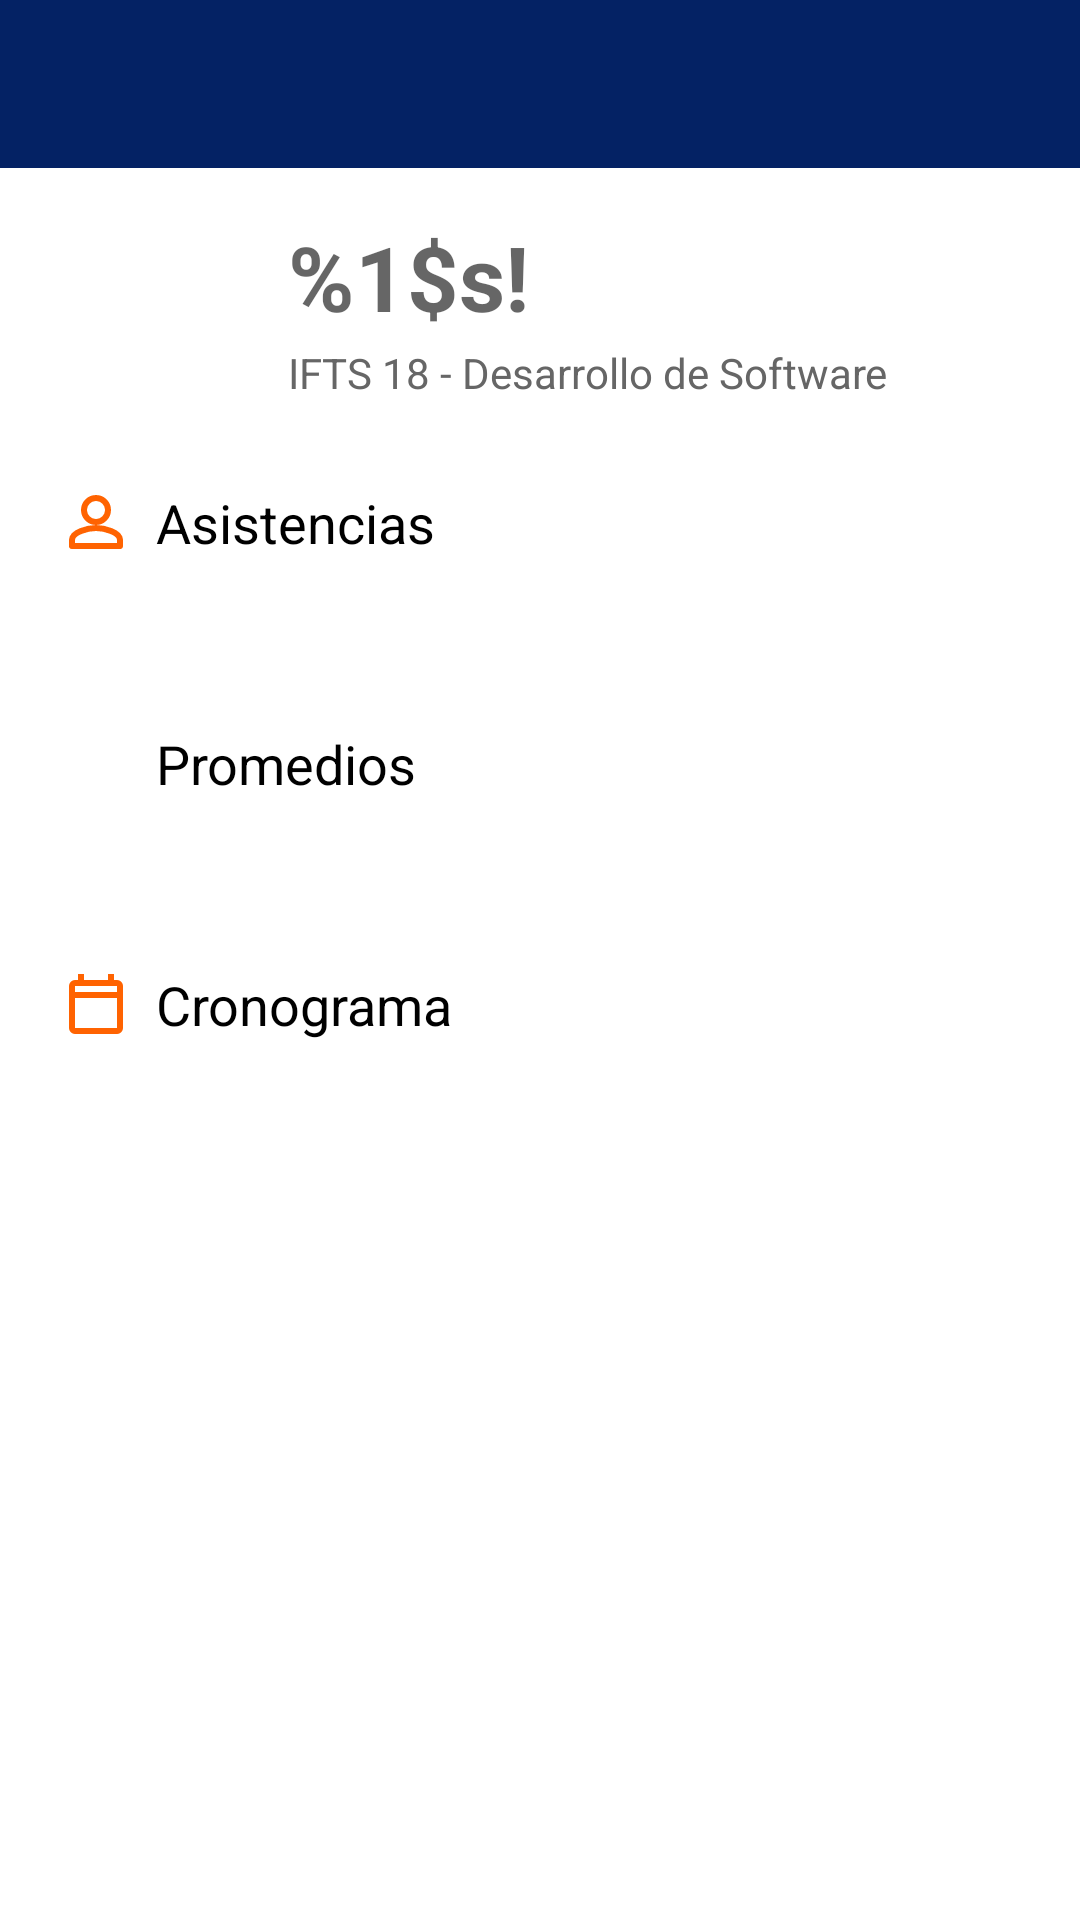

Named icons in this screenshot (1080w x 1920h) and their bounding boxes, (x1, y1, x2, y2):
calendar: (69, 974, 123, 1034)
